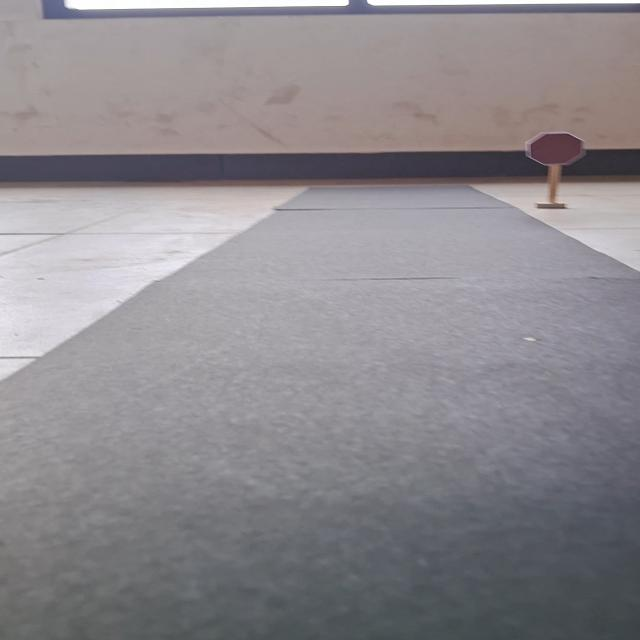Stop: (524, 132, 584, 165)
